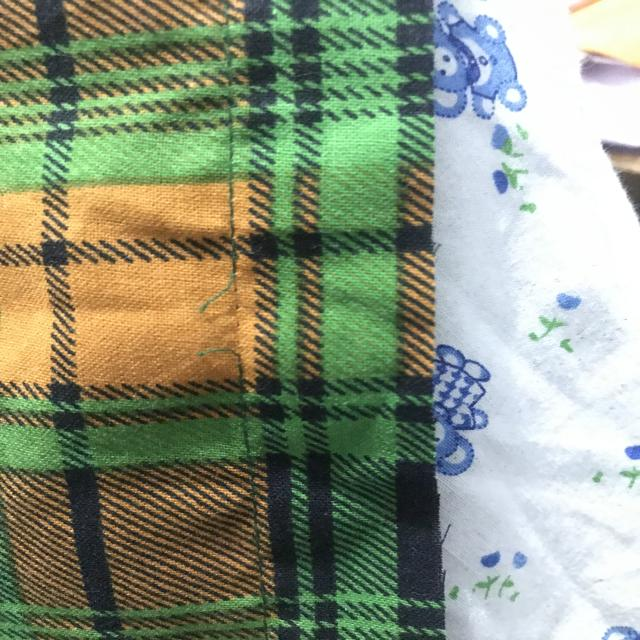broken: (183, 252, 260, 383)
good: (216, 159, 250, 233)
